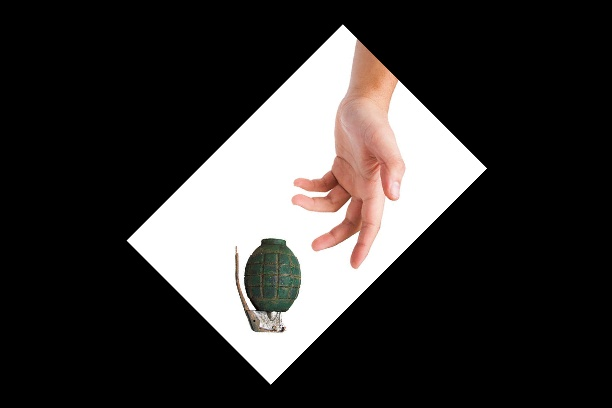e1: (232, 236, 304, 333)
